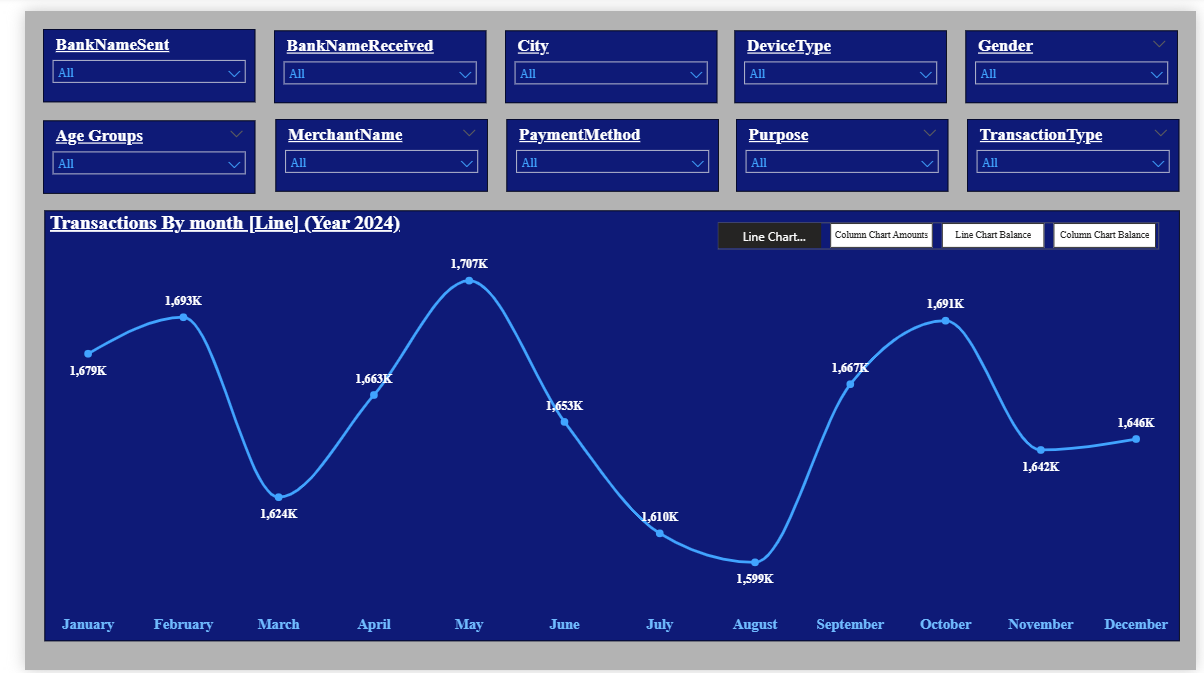

The page's visual inventory and layout, read from the dashboard file:
{"tool":"powerbi","page":{"name":"Page 1","canvas":[1280,720],"ordinal":0},"visuals":[{"type":"slicer","fields":{"Values":["UPI Transaction data.BankNameSent"]},"box":[20,20,232,80],"z":0},{"type":"slicer","fields":{"Values":["UPI Transaction data.BankNameReceived"]},"box":[272,20.7,232.2,79.5],"z":1000},{"type":"slicer","fields":{"Values":["UPI Transaction data.City"]},"box":[524,20.7,232.2,79.5],"z":2000},{"type":"slicer","fields":{"Values":["UPI Transaction data.DeviceType"]},"box":[776,20.7,232.2,79.5],"z":3000},{"type":"slicer","fields":{"Values":["UPI Transaction data.Gender"]},"box":[1028,20.7,232.2,79.5],"z":4000},{"type":"slicer","fields":{"Values":["UPI Transaction data.Age Groups"]},"box":[20,119,232,80],"z":5000},{"type":"slicer","fields":{"Values":["UPI Transaction data.MerchantName"]},"box":[273.5,118.7,232.2,79.5],"z":6000},{"type":"slicer","fields":{"Values":["UPI Transaction data.PaymentMethod"]},"box":[525.5,118.7,232.2,79.5],"z":7000},{"type":"slicer","fields":{"Values":["UPI Transaction data.Purpose"]},"box":[777.5,118.7,232.2,79.5],"z":8000},{"type":"slicer","fields":{"Values":["UPI Transaction data.TransactionType"]},"box":[1029.5,118.7,232.2,79.5],"z":9000},{"type":"lineChart","title":"Transactions By month [Line] (Year 2024)","fields":{"Y":["Sum(UPI Transaction data.Amount)"],"Category":["UPI Transaction data.TransactionDate.Variation.Date Hierarchy.Month"]},"box":[20.7,217.9,1240.7,470.8],"z":10000},{"type":"bookmarkNavigator","box":[757.4,231.1,482,29.5],"z":14000}]}

Visuals, with their boxes in screenshot pixels (x1, y1, x2, y2), scaled from the page's 1280x720 canvas onto the 1204x673 screenshot:
slicer - UPI Transaction data.BankNameSent: [19,19,237,93]
slicer - UPI Transaction data.BankNameReceived: [256,19,474,94]
slicer - UPI Transaction data.City: [493,19,711,94]
slicer - UPI Transaction data.DeviceType: [730,19,948,94]
slicer - UPI Transaction data.Gender: [967,19,1185,94]
slicer - UPI Transaction data.Age Groups: [19,111,237,186]
slicer - UPI Transaction data.MerchantName: [257,111,476,185]
slicer - UPI Transaction data.PaymentMethod: [494,111,713,185]
slicer - UPI Transaction data.Purpose: [731,111,950,185]
slicer - UPI Transaction data.TransactionType: [968,111,1187,185]
"Transactions By month [Line] (Year 2024)" lineChart: [19,204,1187,644]
bookmarkNavigator: [712,216,1166,244]
